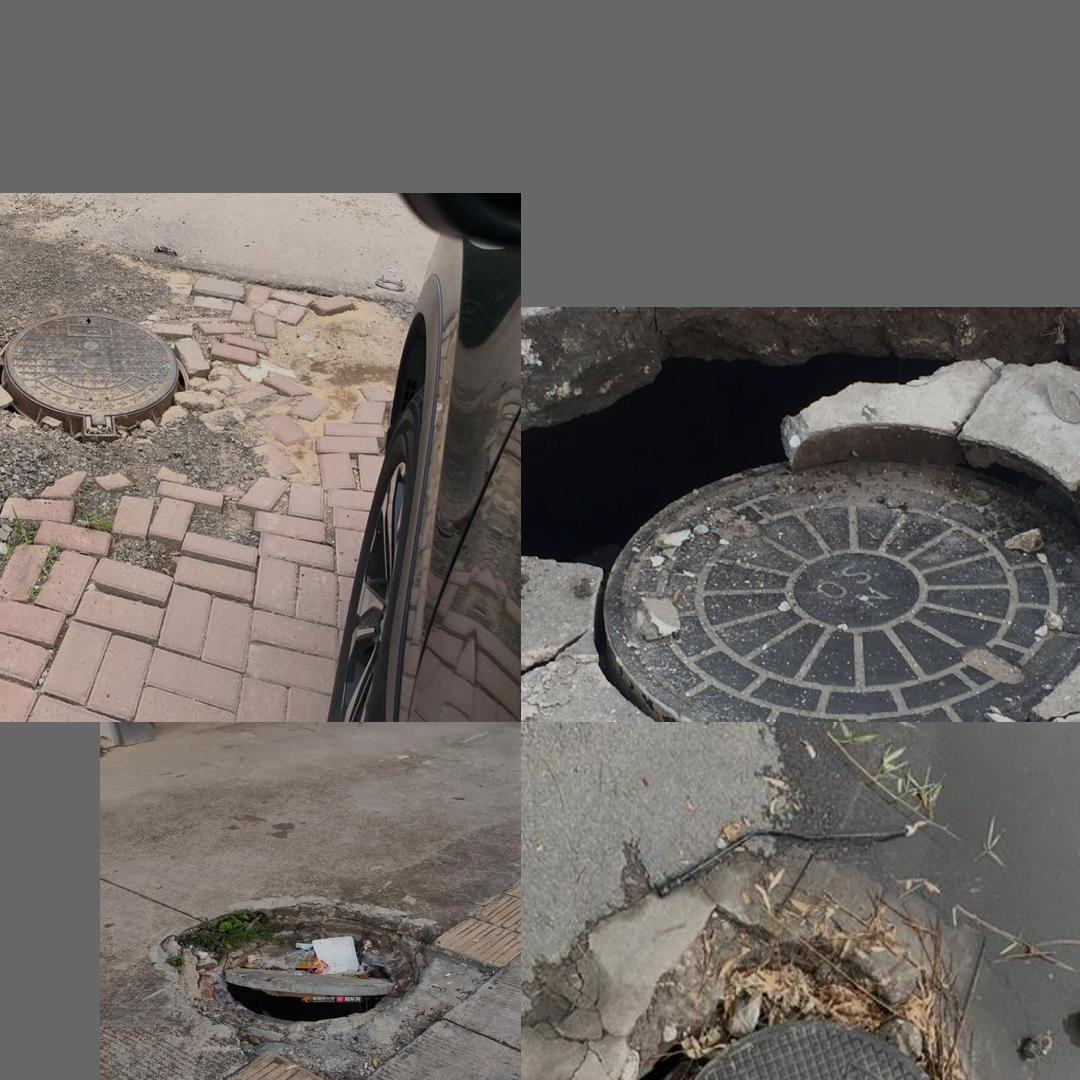circle: (532, 323, 1080, 717), (528, 842, 1049, 1080), (137, 891, 481, 1079), (0, 275, 251, 486)
